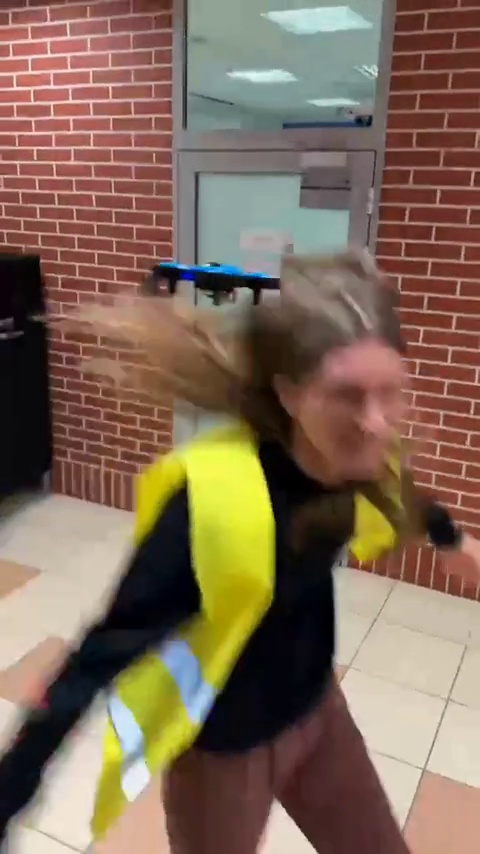drone: (150, 256, 291, 306)
vest: (93, 237, 439, 854)
